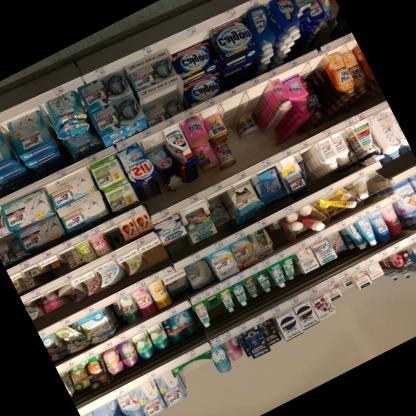empty_space: (220, 86, 251, 136), (179, 350, 218, 387)
